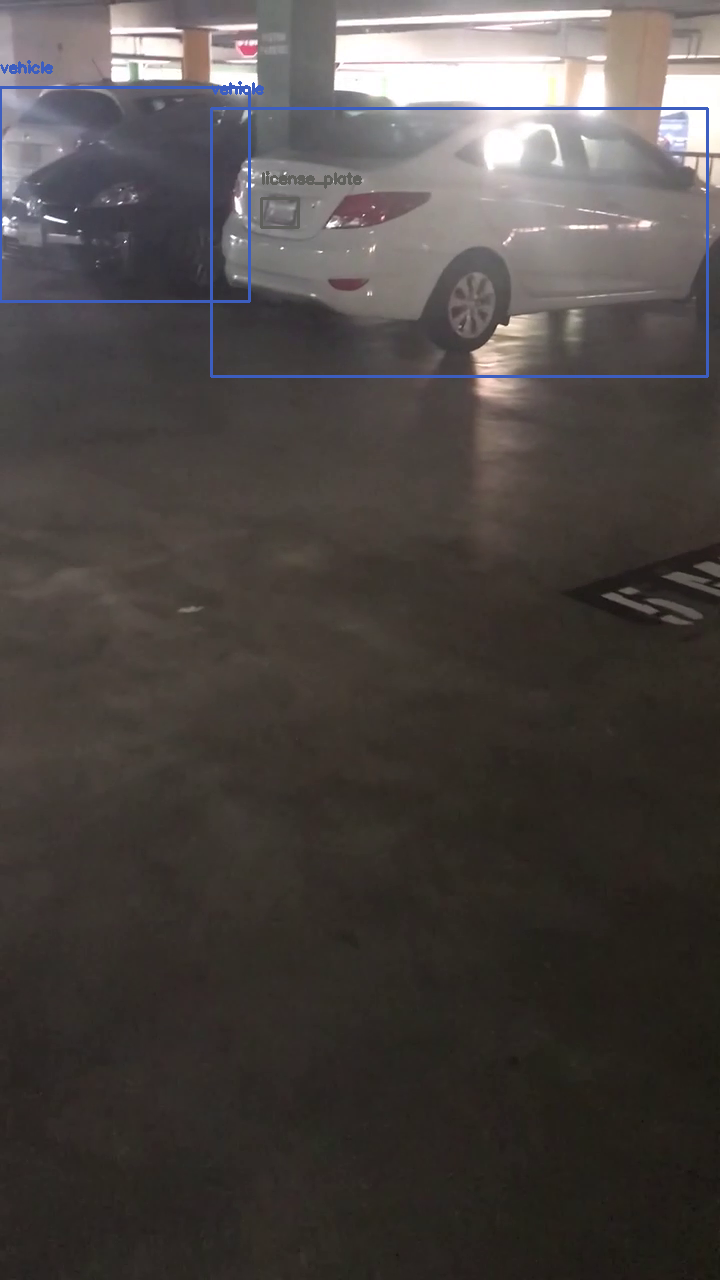license_plate: (261, 198, 298, 227)
vehicle: (211, 108, 707, 376), (0, 87, 249, 301)
